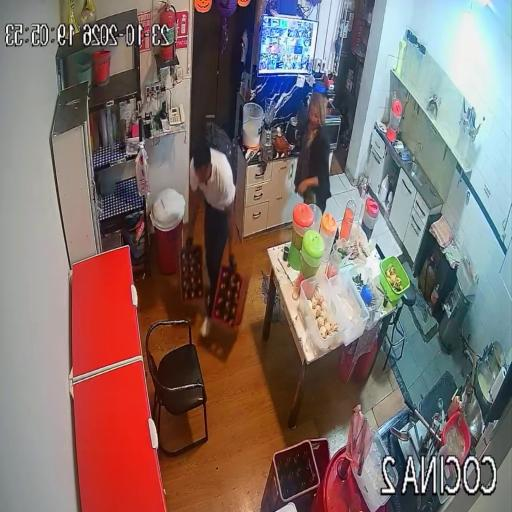Balde: (242, 103, 263, 149)
CajaCerveza: (261, 439, 329, 512), (213, 267, 248, 327), (180, 245, 205, 300)
Envase Llajua: (448, 394, 460, 418)
Jarra1: (362, 197, 378, 239)
Jarra2: (319, 213, 337, 260)
Jarra3: (300, 229, 324, 278)
Jarra4: (289, 203, 314, 270)
Jarra5: (309, 204, 322, 232)
Licuadora: (286, 117, 298, 145)
Licuadora2: (261, 98, 275, 147)
Microondas: (324, 101, 342, 149)
Persona2: (294, 92, 331, 212)
Persona3: (187, 139, 236, 337)
Taper: (380, 257, 410, 302)
Taper2: (349, 265, 387, 329)
Taper3: (329, 271, 369, 348)
Taper4: (298, 275, 349, 353)
Taper5: (354, 430, 398, 512)
